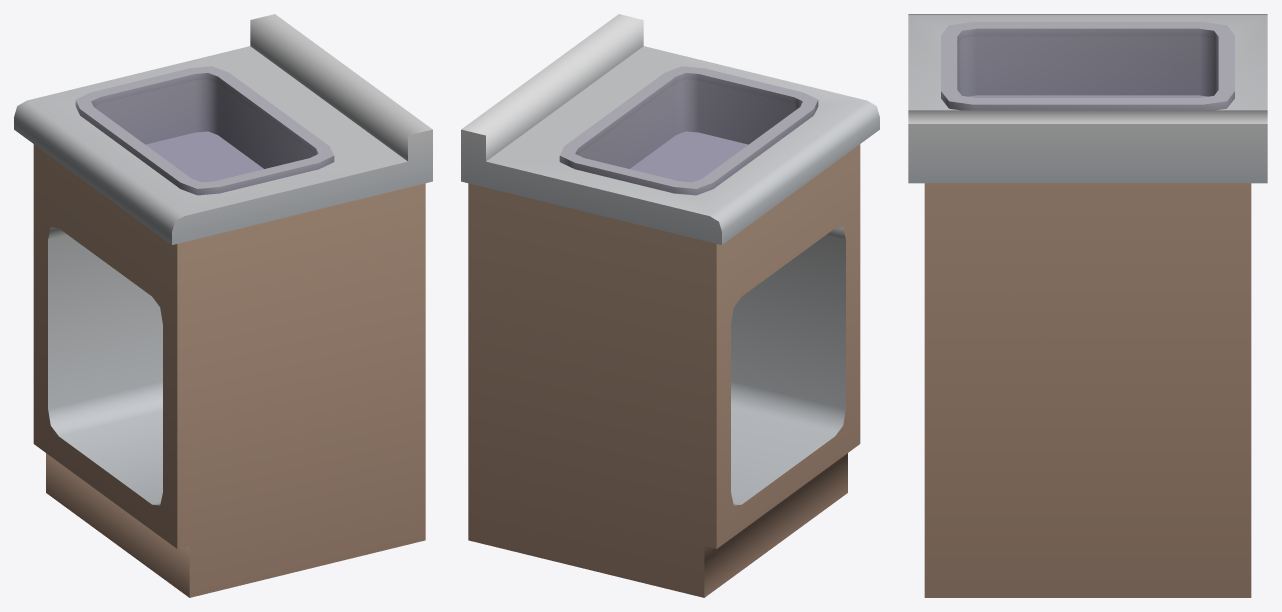
The model's file is cabinet-basic-sink (%thumbnail).glb.
3 renders of one model, left to right at view 1: azimuth 30°, elevation 25°; view 2: azimuth 150°, elevation 25°; view 3: azimuth 270°, elevation 25°, orthographic. The views are drawn at different scales.
Visible parts, largest first — view 1: cabinet-basic-sink (%thumbnail); view 2: cabinet-basic-sink (%thumbnail); view 3: cabinet-basic-sink (%thumbnail).
Part boxes in pixels (x1=…): cabinet-basic-sink (%thumbnail): x1=14, y1=14, x2=432, y2=597; cabinet-basic-sink (%thumbnail): x1=461, y1=14, x2=879, y2=597; cabinet-basic-sink (%thumbnail): x1=908, y1=14, x2=1267, y2=597.
Bounding box in the file's own units: 0.525 × 0.8 × 0.55.
